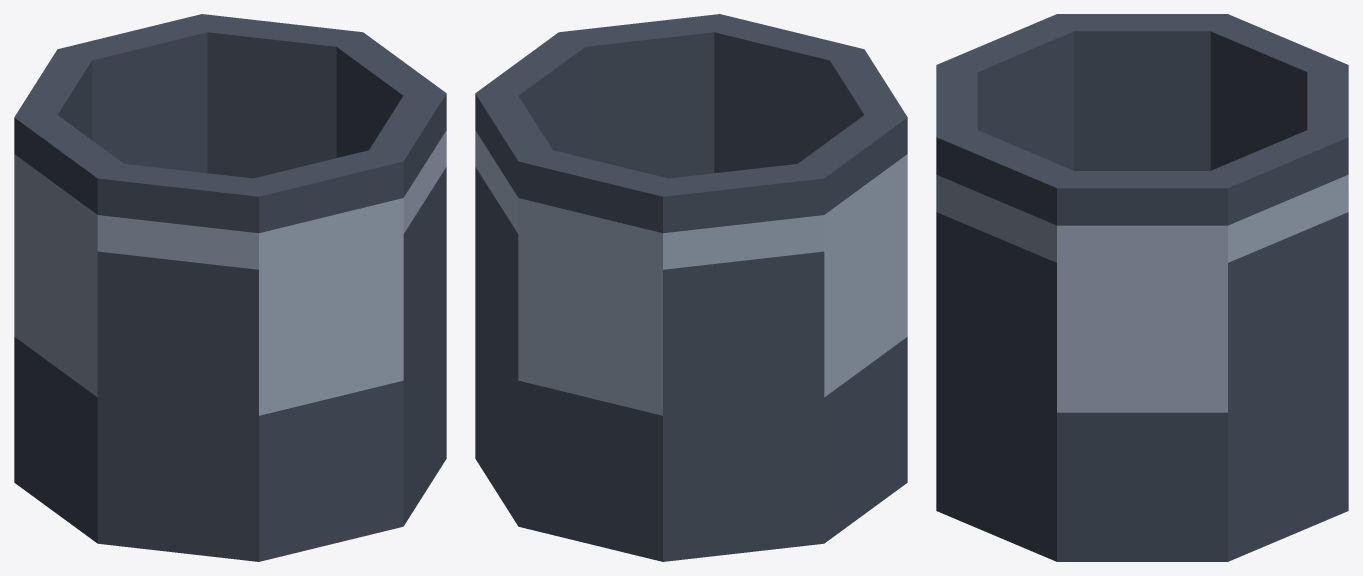
The model's file is rocket_fuelB.glb.
3 views of the same model, side by side, from view 1: azimuth 30°, elevation 25°; view 2: azimuth 150°, elevation 25°; view 3: azimuth 270°, elevation 25° (orthographic). The views are drawn at different scales.
Visible parts, largest first — view 1: rocket_fuelB; view 2: rocket_fuelB; view 3: rocket_fuelB.
Boxes of the visible parts, left/top/right/bottom form: rocket_fuelB: left=14, top=14, right=446, bottom=561; rocket_fuelB: left=475, top=14, right=907, bottom=561; rocket_fuelB: left=936, top=14, right=1348, bottom=561.
Size of the model in its own units: 1 by 1 by 1.
